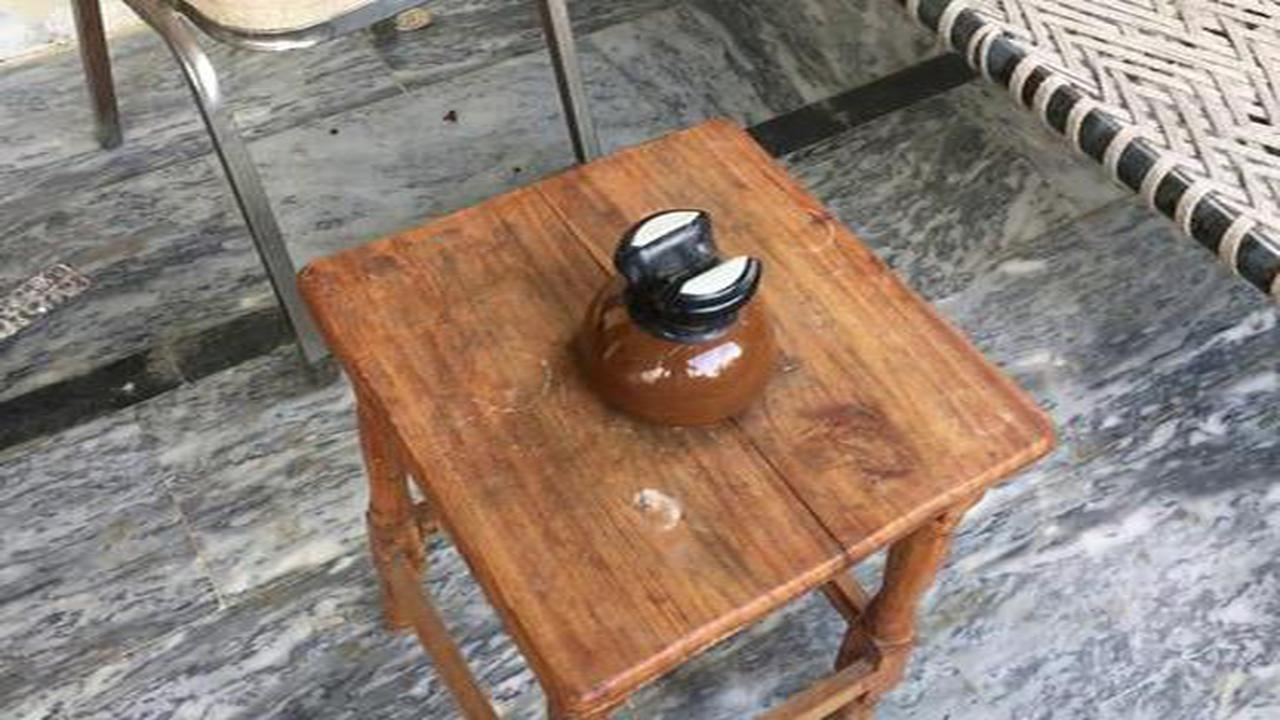insulator_pin: (542, 193, 797, 447)
